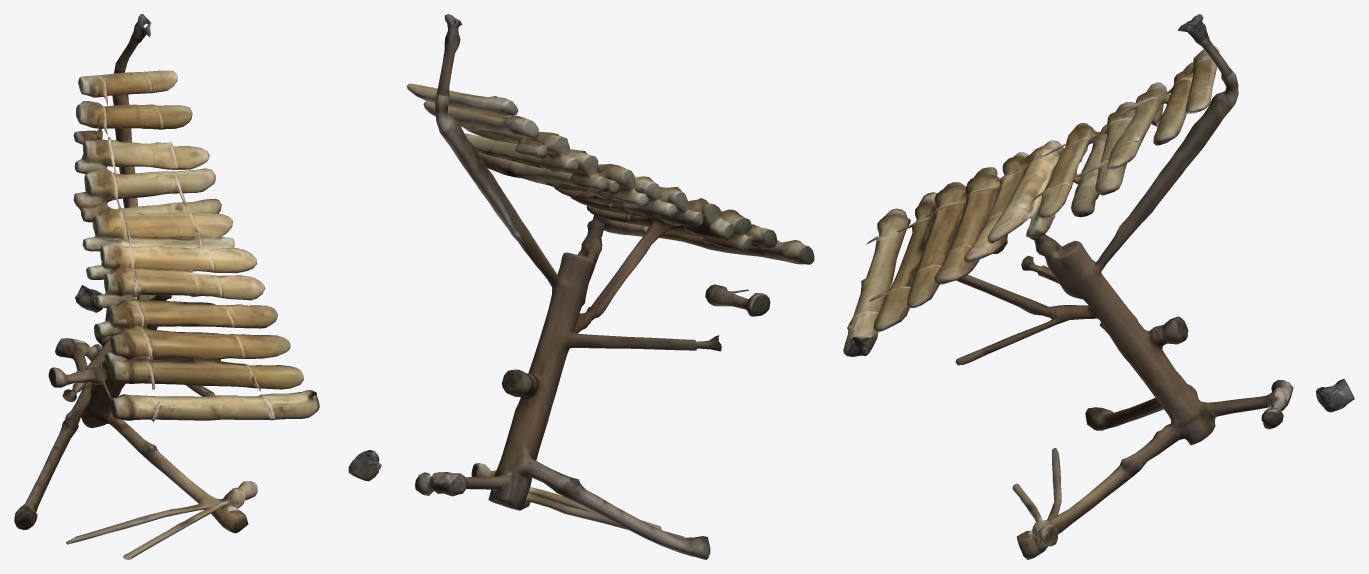
3 renders of one model, left to right at view 1: azimuth 30°, elevation 25°; view 2: azimuth 150°, elevation 25°; view 3: azimuth 270°, elevation 25°, orthographic. The views are drawn at different scales.
Bounding box in the file's own units: 0.458 × 0.9144 × 0.7949.
Materials: 1 (1 with a texture image).
